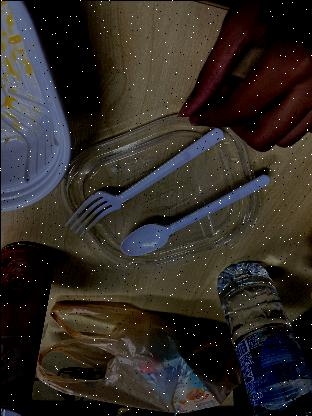Others: (61, 118, 222, 235), (115, 171, 270, 269)
